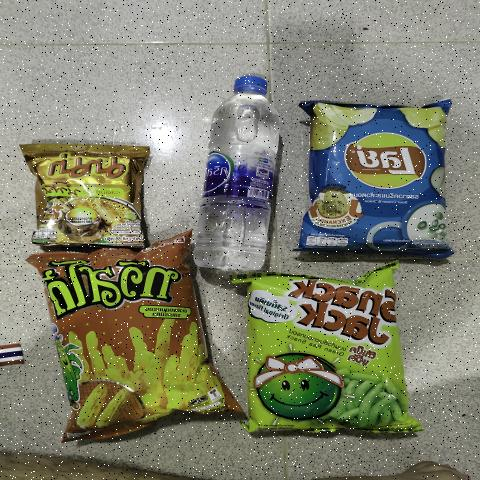lay_blue: (310, 109, 442, 239)
mama: (39, 153, 134, 235)
snack_jack: (271, 284, 383, 429)
twisco: (71, 252, 187, 436), (198, 92, 278, 255)
